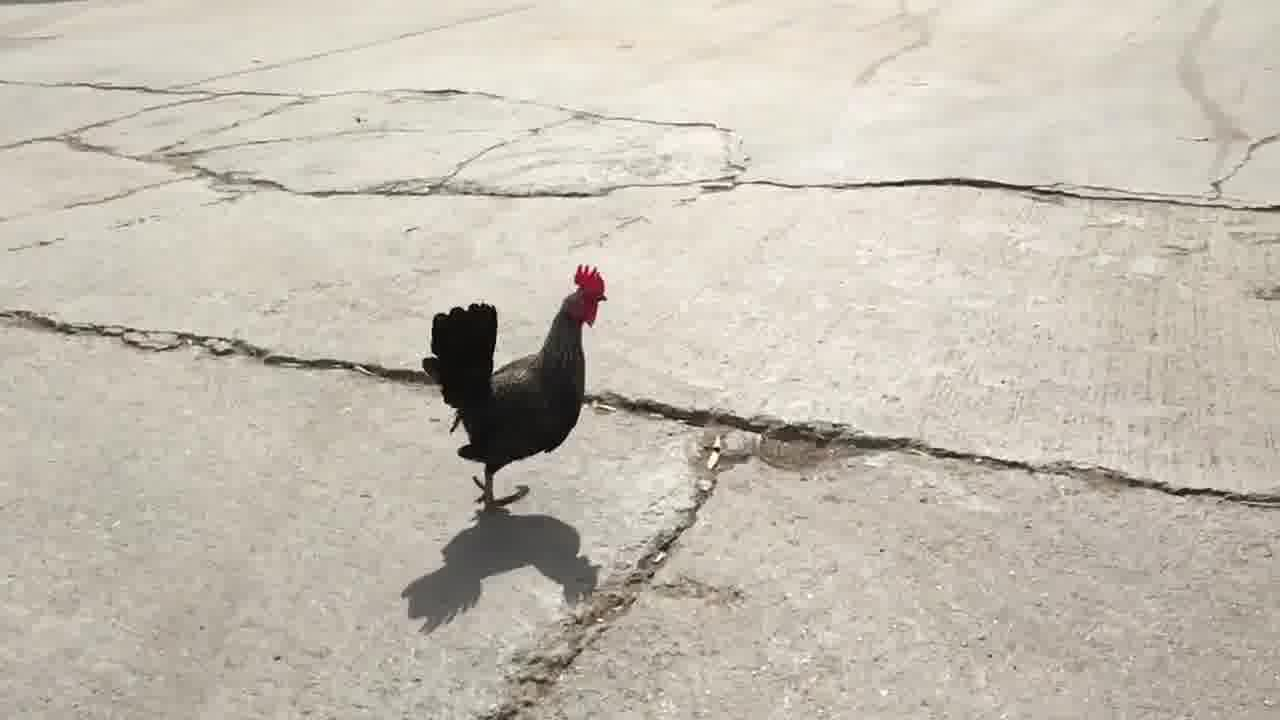Normal: (410, 256, 624, 512)
